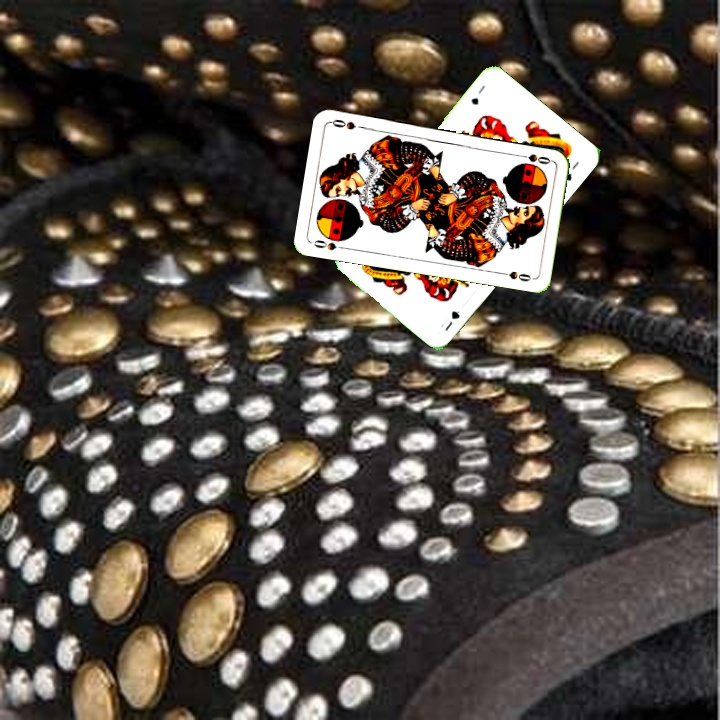GU: (436, 307, 462, 334), (467, 81, 488, 108)
SO: (513, 150, 554, 167), (308, 236, 348, 253)
